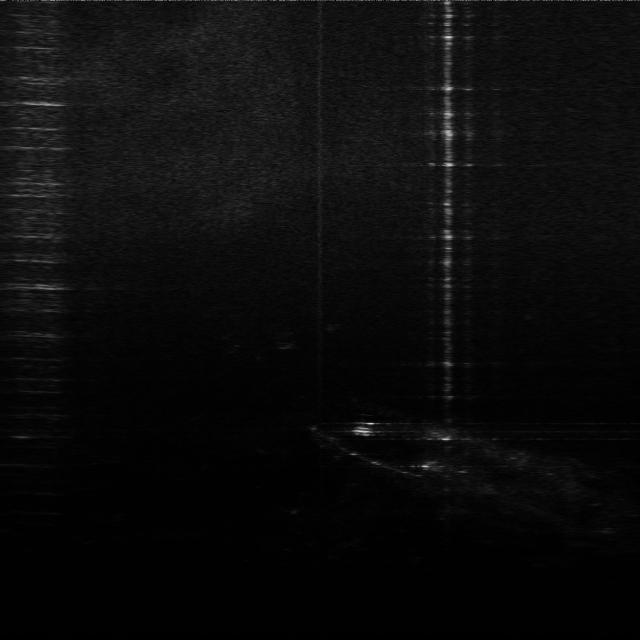rov: (349, 418, 377, 438)
